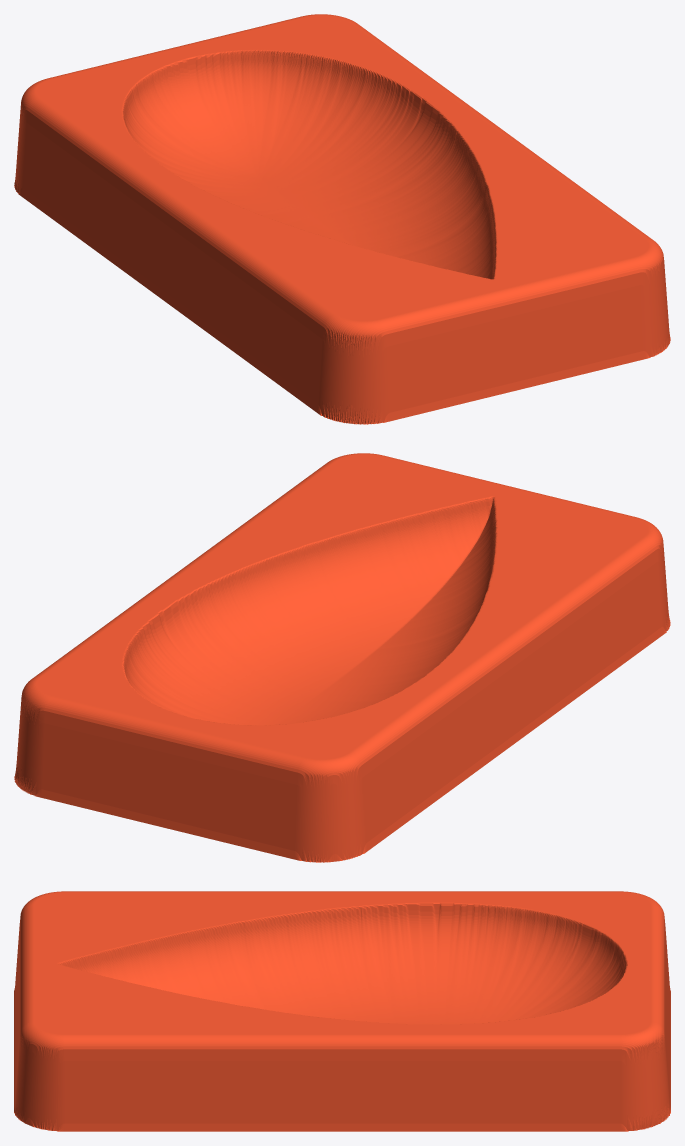
Rendered from mold.glb.
The picture shows the model from 3 angles, top to bottom: view 1: azimuth 30°, elevation 25°; view 2: azimuth 150°, elevation 25°; view 3: azimuth 270°, elevation 25°; orthographic projection. The views are drawn at different scales.
Parts seen in each view (by area): view 1: geometry_0; view 2: geometry_0; view 3: geometry_0.
Boxes of the visible parts, box(x1,y1,x2,y2) form: geometry_0: box(14, 14, 670, 424); geometry_0: box(14, 453, 670, 862); geometry_0: box(14, 891, 670, 1131).
Size of the model in its own units: 0.0674 by 0.0175 by 0.1178.
